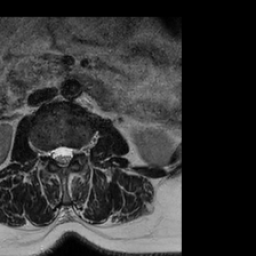CCS_normal: (59, 140, 67, 171)
LFS_stenosis: (74, 143, 81, 159)
LLS_normal: (67, 140, 74, 166)
RFS_stenosis: (42, 143, 52, 162)
RLS_normal: (51, 141, 59, 165)
